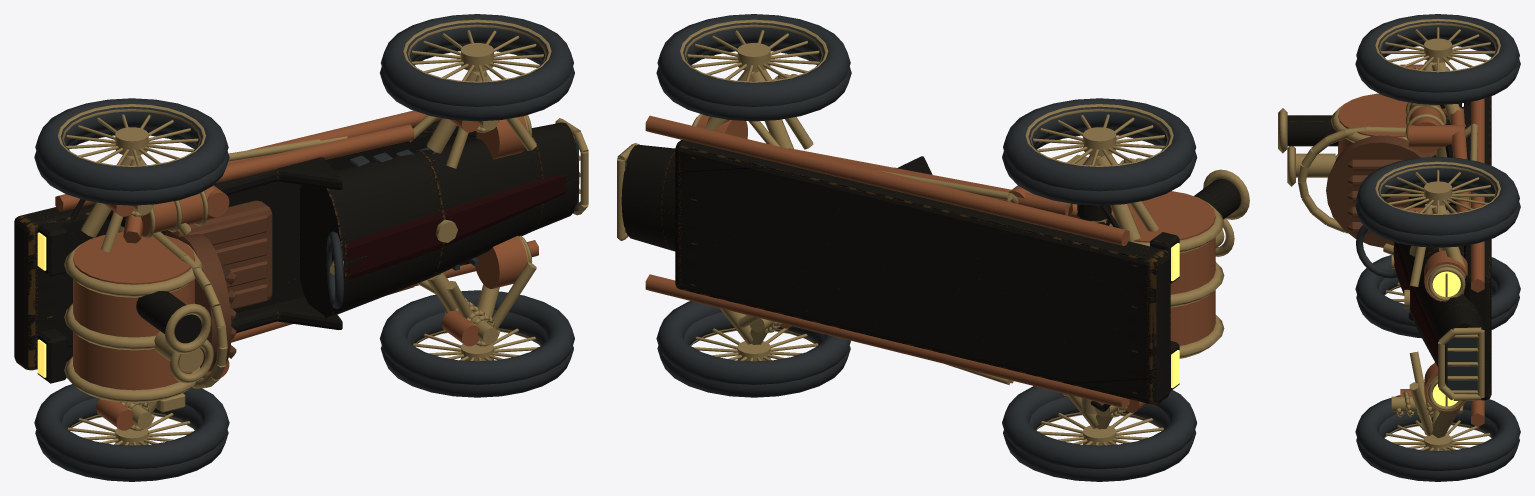
The model's file is kart-high.glb.
3 renders of one model, left to right at view 1: azimuth 30°, elevation 25°; view 2: azimuth 150°, elevation 25°; view 3: azimuth 270°, elevation 25°, orthographic. The views are drawn at different scales.
Visible parts, largest first — view 1: kart-root / Riveted iron, kart-root / Copper feed lines, kart-root / Machined brass, Wheel 1 1 / Tire rubber, Wheel 0 1 / Tire rubber, Wheel 0 -1 / Tire rubber, Wheel 1 -1 / Tire rubber, kart-root / Quilted leather, kart-root / Burgundy enamel, Wheel 0 1 / Machined brass, Wheel 1 1 / Machined brass, kart-root / Tire rubber (+3 smaller); view 2: kart-root / Riveted iron, kart-root / Copper feed lines, Wheel 0 1 / Tire rubber, Wheel 1 1 / Tire rubber, Wheel 1 -1 / Tire rubber, kart-root / Machined brass, Wheel 0 -1 / Tire rubber, Wheel 0 1 / Machined brass, Wheel 1 1 / Machined brass, Wheel 1 -1 / Machined brass, Wheel 0 -1 / Machined brass; view 3: kart-root / Machined brass, Wheel 0 1 / Tire rubber, Wheel 1 1 / Tire rubber, Wheel 0 -1 / Tire rubber, kart-root / Copper feed lines, kart-root / Riveted iron, kart-root / Quilted leather, Wheel 1 -1 / Tire rubber, Wheel 1 1 / Machined brass, Wheel 0 1 / Machined brass, kart-root / Tire rubber, Wheel 0 -1 / Machined brass (+2 smaller).
Part boxes in pixels (x1,y1,x2,y2): kart-root / Riveted iron: [14, 120, 579, 383]; kart-root / Copper feed lines: [55, 110, 538, 430]; kart-root / Machined brass: [64, 71, 588, 430]; Wheel 1 1 / Tire rubber: [34, 98, 229, 205]; Wheel 0 1 / Tire rubber: [380, 14, 574, 121]; Wheel 0 -1 / Tire rubber: [379, 290, 574, 397]; Wheel 1 -1 / Tire rubber: [34, 384, 229, 481]; kart-root / Quilted leather: [165, 200, 272, 371]; kart-root / Burgundy enamel: [344, 174, 566, 280]; Wheel 0 1 / Machined brass: [403, 19, 551, 82]; Wheel 1 1 / Machined brass: [58, 104, 205, 166]; kart-root / Tire rubber: [326, 138, 578, 308]; kart-root / Riveted iron: [621, 140, 1240, 411]; kart-root / Copper feed lines: [645, 115, 1215, 412]; Wheel 0 1 / Tire rubber: [656, 14, 851, 121]; Wheel 1 1 / Tire rubber: [1002, 98, 1197, 205]; Wheel 1 -1 / Tire rubber: [1002, 386, 1196, 481]; kart-root / Machined brass: [617, 69, 1249, 429]; Wheel 0 -1 / Tire rubber: [656, 301, 850, 397]; Wheel 0 1 / Machined brass: [680, 19, 828, 82]; Wheel 1 1 / Machined brass: [1025, 104, 1173, 166]; Wheel 1 -1 / Machined brass: [1036, 412, 1163, 445]; Wheel 0 -1 / Machined brass: [690, 328, 818, 361]; kart-root / Machined brass: [1278, 60, 1484, 438]; Wheel 0 1 / Tire rubber: [1355, 157, 1520, 247]; Wheel 1 1 / Tire rubber: [1355, 14, 1520, 104]; Wheel 0 -1 / Tire rubber: [1355, 395, 1520, 481]; kart-root / Copper feed lines: [1338, 64, 1484, 426]; kart-root / Riveted iron: [1287, 96, 1491, 401]; kart-root / Quilted leather: [1326, 135, 1431, 247]; Wheel 1 -1 / Tire rubber: [1355, 255, 1520, 338]; Wheel 1 1 / Machined brass: [1375, 18, 1500, 72]; Wheel 0 1 / Machined brass: [1375, 161, 1500, 214]; kart-root / Tire rubber: [1356, 225, 1477, 390]; Wheel 0 -1 / Machined brass: [1384, 420, 1491, 450].
Size of the model in its own units: 1.52 by 0.8328 by 0.6886.
Materials: 8 (2 with a texture image).
